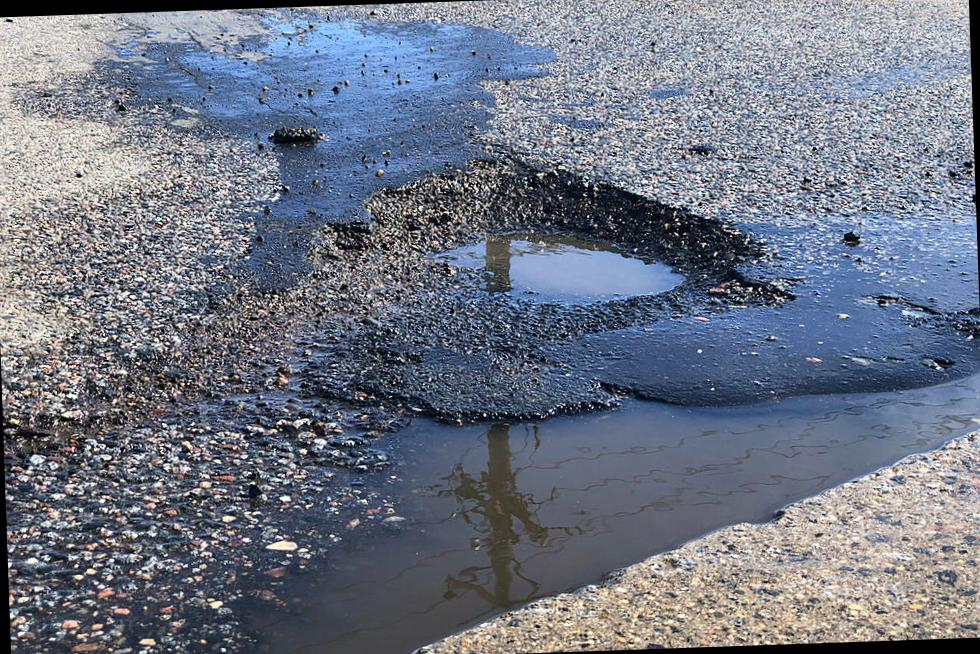pothole: (6, 365, 972, 654), (357, 140, 791, 320)
